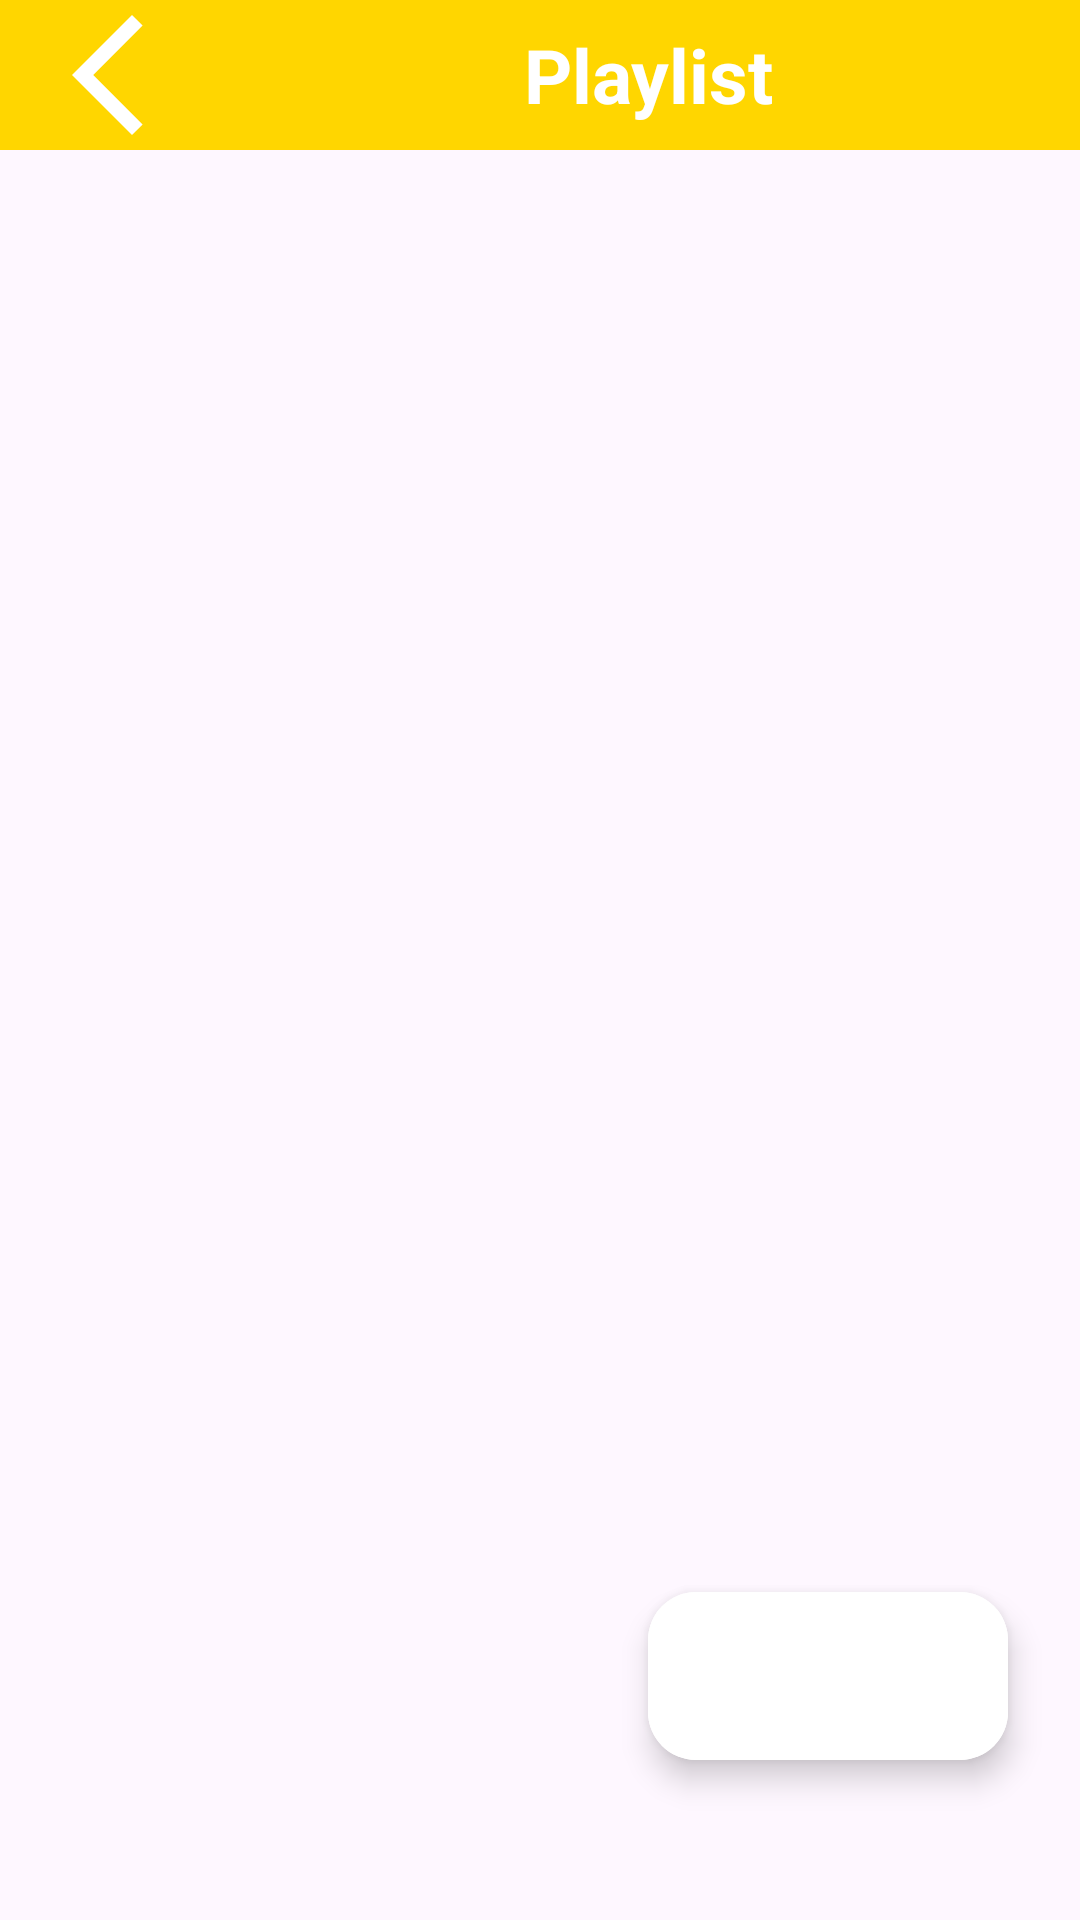

Screen size 1080w x 1920h. Icon name, then its center in pixels as [x,y]:
Back: [107,75]
